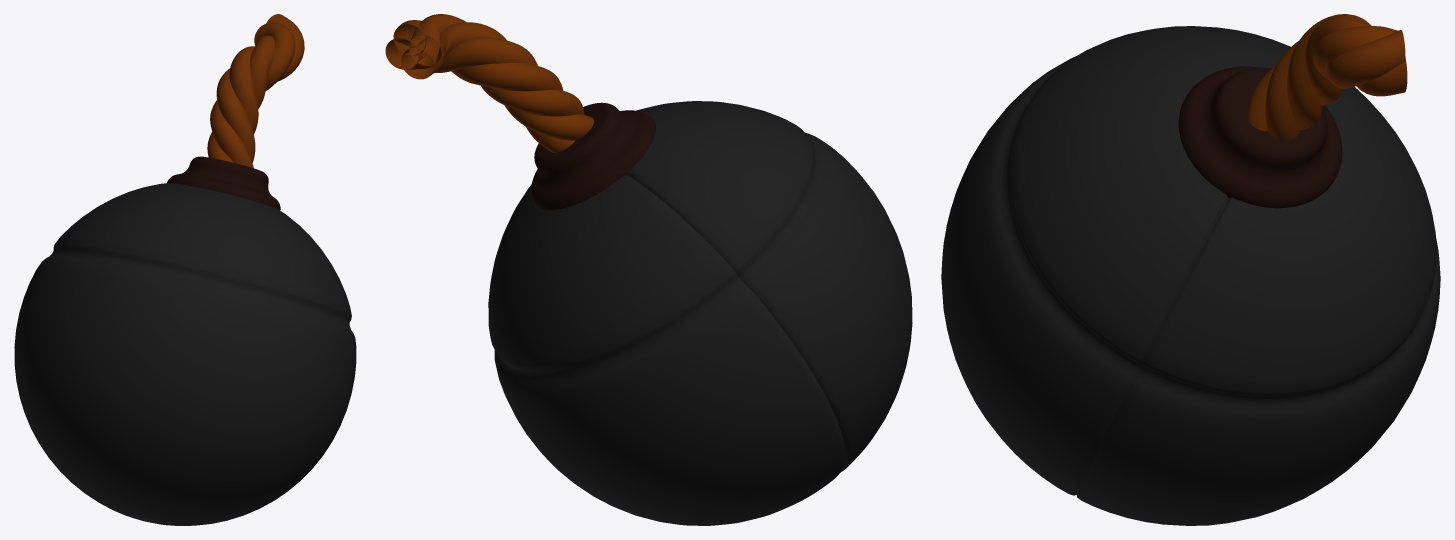
Rendered from bomb 2.fbx.
The picture shows the model from 3 angles, left to right: view 1: azimuth 30°, elevation 25°; view 2: azimuth 150°, elevation 25°; view 3: azimuth 270°, elevation 25°; orthographic projection. The views are drawn at different scales.
Parts seen in each view (by area): view 1: Sphere.025, Circle.032, Cylinder.036; view 2: Sphere.025, Circle.032, Cylinder.036; view 3: Sphere.025, Cylinder.036, Circle.032.
Boxes of the visible parts, bbox=[...] form: Sphere.025: bbox=[14, 183, 356, 525]; Circle.032: bbox=[207, 14, 304, 168]; Cylinder.036: bbox=[167, 156, 280, 210]; Sphere.025: bbox=[488, 101, 912, 525]; Circle.032: bbox=[385, 14, 594, 152]; Cylinder.036: bbox=[531, 102, 655, 209]; Sphere.025: bbox=[941, 26, 1440, 525]; Cylinder.036: bbox=[1178, 66, 1342, 208]; Circle.032: bbox=[1246, 14, 1407, 141].
Bounding box in the file's own units: 200 × 234 × 180.
